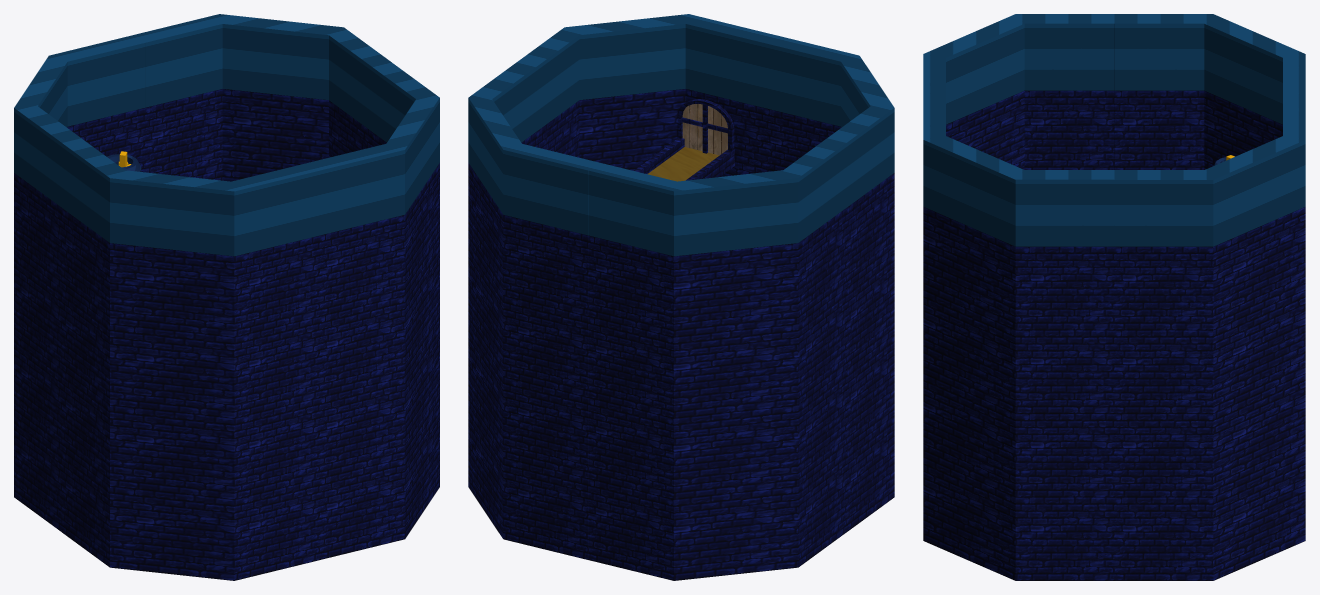
Rendered from road9.glb.
The picture shows the model from 3 angles, left to right: view 1: azimuth 30°, elevation 25°; view 2: azimuth 150°, elevation 25°; view 3: azimuth 270°, elevation 25°; orthographic projection. The views are drawn at different scales.
Visible parts, largest first — view 1: wall_cornerEdge (×8); view 2: wall_cornerEdge (×8), door_rounded_wide, straight; view 3: wall_cornerEdge (×8).
Boxes of the visible parts, left/top/right/bottom form: wall_cornerEdge (×8): left=14, top=14, right=439, bottom=580; wall_cornerEdge (×8): left=468, top=14, right=894, bottom=580; door_rounded_wide: left=677, top=99, right=734, bottom=161; straight: left=634, top=138, right=734, bottom=181; wall_cornerEdge (×8): left=923, top=14, right=1305, bottom=580.
Bounding box in the file's own units: 4.26 × 4.8 × 4.15.
Materials: 30 (28 with a texture image).
